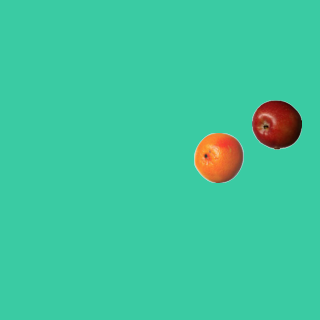Apple Braeburn: (251, 99, 301, 149)
Grapefruit Pink: (193, 132, 243, 182)
